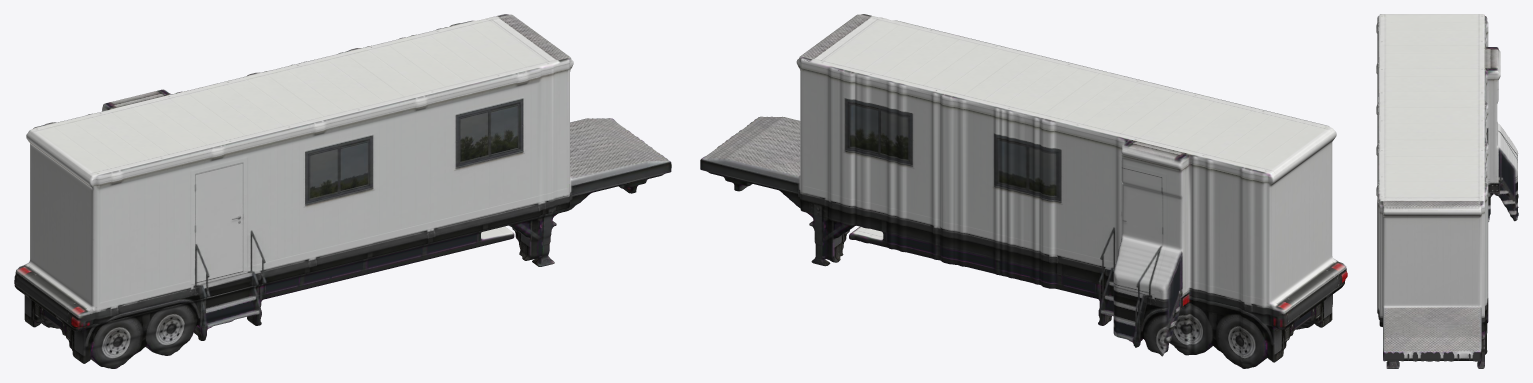
The model's file is caravan.glb.
3 renders of one model, left to right at view 1: azimuth 30°, elevation 25°; view 2: azimuth 150°, elevation 25°; view 3: azimuth 270°, elevation 25°, orthographic. The views are drawn at different scales.
Visible parts, largest first — view 1: caravan; view 2: caravan; view 3: caravan.
Boxes of the visible parts, <box> form: caravan: <box>14,14,671,368</box>; caravan: <box>700,14,1347,368</box>; caravan: <box>1376,14,1518,368</box>.
Bounding box in the file's own units: 12.49 × 4.1 × 3.15.
1 material, 1 textured.
